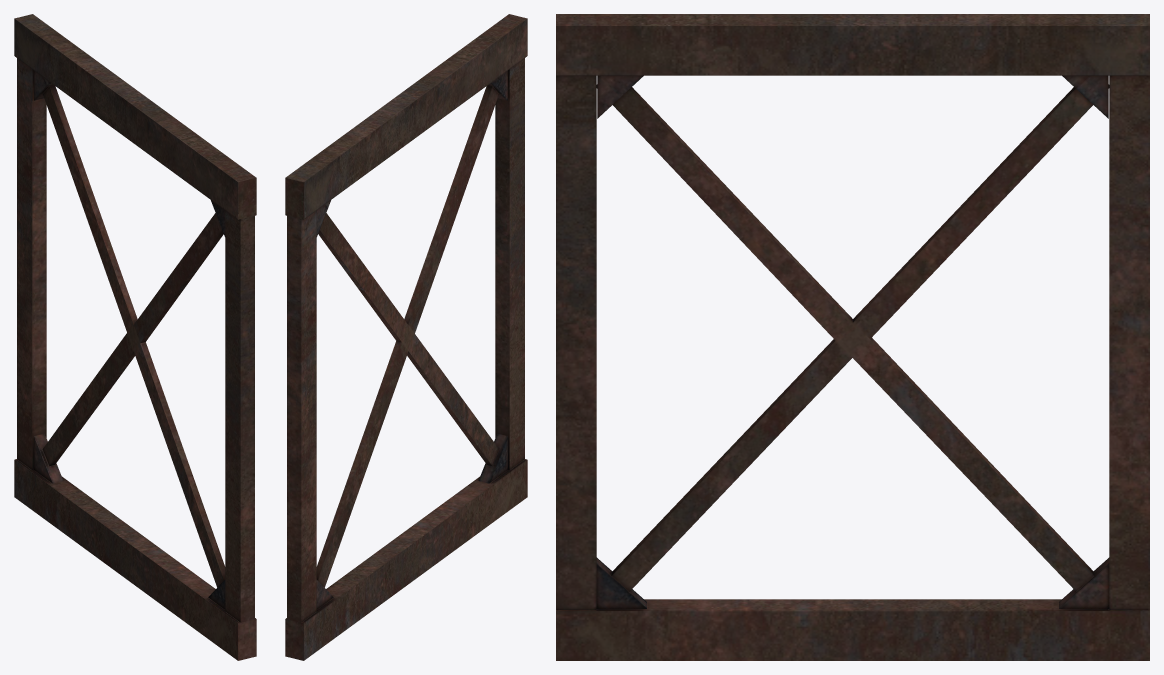
The model's file is TankMetalBase_01.FBX.
The picture shows the model from 3 angles, left to right: view 1: azimuth 30°, elevation 25°; view 2: azimuth 150°, elevation 25°; view 3: azimuth 270°, elevation 25°; orthographic projection. The views are drawn at different scales.
Parts seen in each view (by area): view 1: TankMetalBase_01; view 2: TankMetalBase_01; view 3: TankMetalBase_01.
Part boxes in pixels (<box>): TankMetalBase_01: <box>14,14,256,660</box>; TankMetalBase_01: <box>285,14,527,660</box>; TankMetalBase_01: <box>556,14,1149,660</box>.
Size of the model in its own units: 11.3 by 279 by 237.
